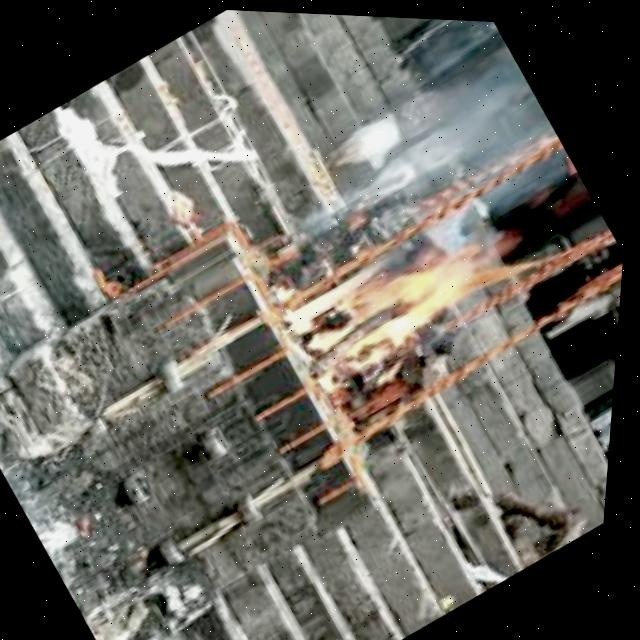Fire: (274, 192, 520, 398)
